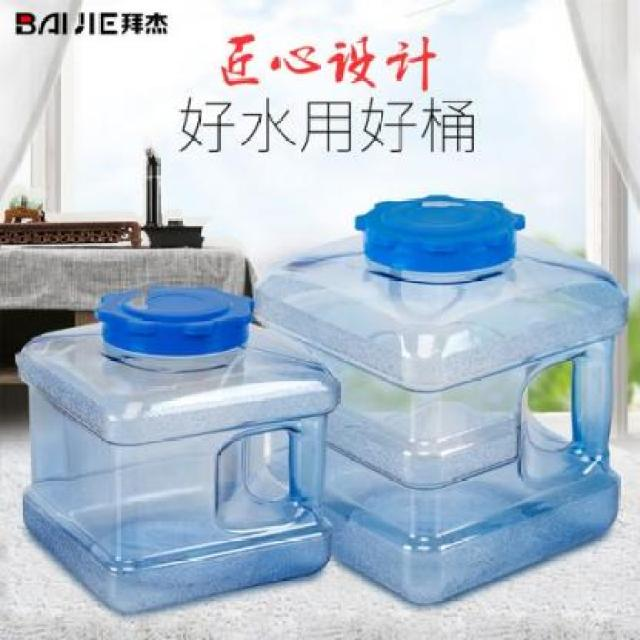coolerbottle: (252, 187, 636, 608), (11, 282, 347, 624)
